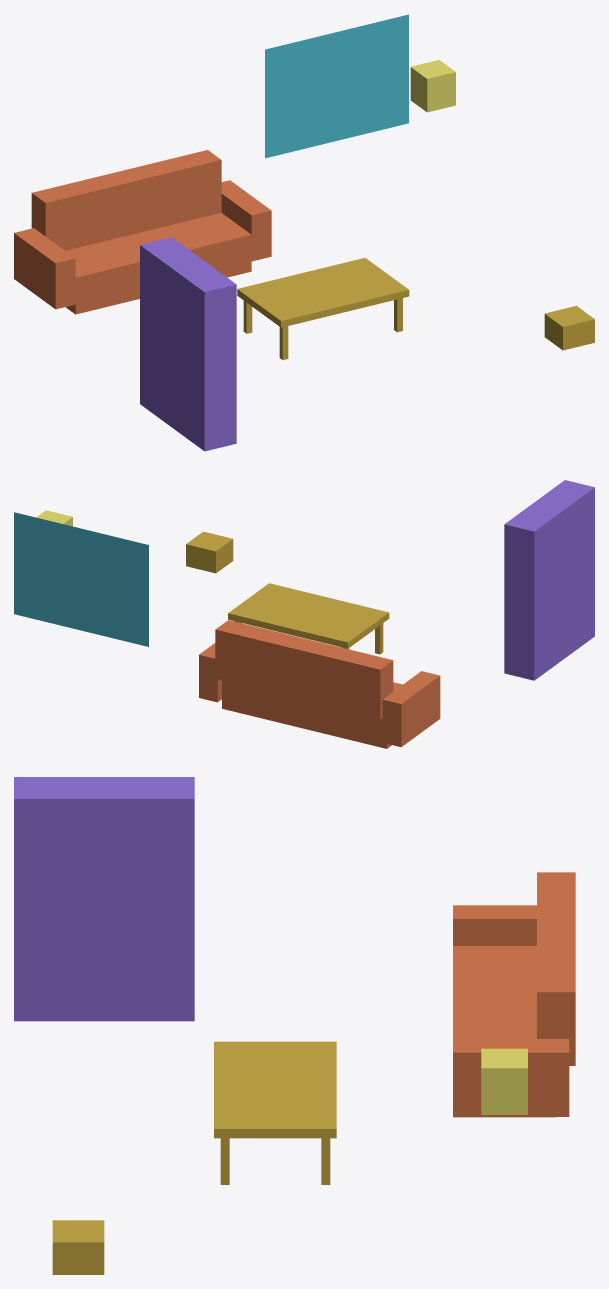
3 views of the same model, one above another, from view 1: azimuth 30°, elevation 25°; view 2: azimuth 150°, elevation 25°; view 3: azimuth 270°, elevation 25° (orthographic). The views are drawn at different scales.
Parts seen in each view (by area): view 1: shelf_10, window_00, sofa_02, sofa_01, table_05, sofa_03, sofa_04, lamp_11, table_12; view 2: shelf_10, window_00, sofa_02, table_05, sofa_01, sofa_03, table_12, sofa_04; view 3: shelf_10, table_05, sofa_01, sofa_02, sofa_04, sofa_03, lamp_11, table_12.
Part boxes in pixels (x1,y1,x2,y2): shelf_10: (140, 237, 236, 451); window_00: (265, 14, 408, 158); sofa_02: (31, 150, 221, 250); sofa_01: (65, 213, 251, 314); table_05: (237, 258, 409, 327); sofa_03: (14, 228, 75, 309); sofa_04: (221, 180, 271, 261); lamp_11: (410, 60, 455, 112); table_12: (544, 306, 594, 350); shelf_10: (504, 480, 594, 680); window_00: (14, 512, 148, 646); sofa_02: (215, 620, 393, 718); table_05: (228, 583, 389, 648); sofa_01: (222, 680, 402, 748); sofa_03: (382, 671, 440, 747); table_12: (186, 531, 233, 573); sofa_04: (199, 643, 221, 702); shelf_10: (14, 777, 194, 1021); table_05: (214, 1041, 336, 1138); sofa_01: (453, 946, 555, 1117); sofa_02: (537, 872, 575, 1065); sofa_04: (453, 1039, 569, 1116); sofa_03: (453, 905, 536, 945); lamp_11: (481, 1048, 527, 1114); table_12: (52, 1220, 104, 1274).
Size of the model in its own units: 5.23 by 2.2 by 4.5.
